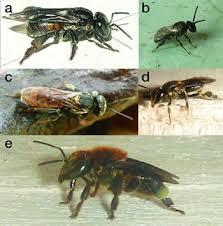Meliponula: (39, 138, 196, 225), (8, 1, 128, 63), (11, 81, 114, 123), (153, 69, 215, 123), (151, 8, 206, 52)
